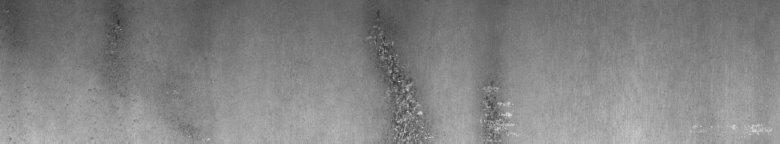hc: (364, 9, 515, 136)
